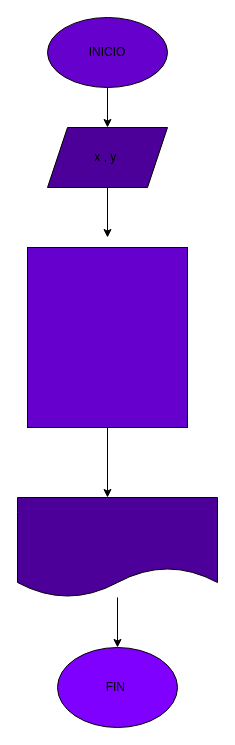
This 235x745 diagram has some shape labels left out. Each missing label, with the centre of its shape:
"s = X + Y r = X - Y m = X * Y d = X / Y de = X // Y m= X % Y p = X ** Y" belongs at (x=107, y=337).
"s,r, m ,d ,de ,m,p" belongs at (x=117, y=547).
